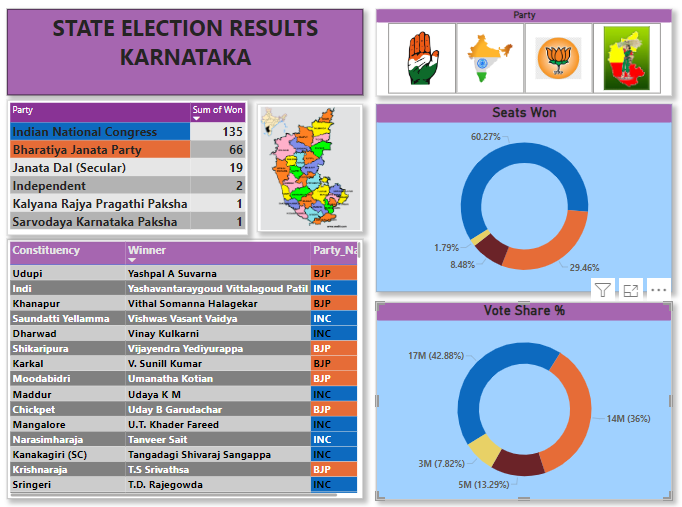

Layout of this report page (visuals, bound fields, positions):
{"tool":"powerbi","page":{"name":"Page 1","canvas":[1500,1200],"ordinal":0},"visuals":[{"type":"donutChart","title":"Seats Won","fields":{"Category":["SeatsWon.Party_Name"],"Y":["Sum(SeatsWon.Won)"]},"box":[824.7,320.7,645.8,410.2],"z":0},{"type":"pieChart","title":"Vote Share %","fields":{"Category":["%vote_share.Party_Name"],"Y":["Sum(%vote_share.Votes Wise(%))"]},"box":[824.7,752.7,645.8,432],"z":1000},{"type":"tableEx","fields":{"Values":["Constituency_Data.Constituency","Constituency_Data.Winner","Constituency_Data.Party_Name"]},"box":[19.6,615.3,776.7,567.3],"z":2000},{"type":"slicer","title":"Party","fields":{"Values":["Flags.Party Flags"]},"box":[824.7,113.5,645.8,189.8],"z":3000},{"type":"textbox","box":[19.6,113.5,776.7,187.6],"z":4000},{"type":"tableEx","fields":{"Values":["SeatsWon.Party","Sum(SeatsWon.Won)"]},"box":[19.6,312,525.8,294.5],"z":5000},{"type":"image","box":[565.1,320.7,231.3,279.3],"z":6000}]}

Visuals, with their boxes on the page's 1500x1200 design canvas (x1, y1, x2, y2). These are canvas units, not pixel positions in the 682x507 screenshot, which may show the page scaled, cropped or inside an application window:
"Seats Won" donutChart: [825, 321, 1470, 731]
"Vote Share %" pieChart: [825, 753, 1470, 1185]
tableEx - Constituency_Data.Constituency x Constituency_Data.Winner: [20, 615, 796, 1183]
"Party" slicer: [825, 114, 1470, 303]
textbox: [20, 114, 796, 301]
tableEx - SeatsWon.Party x Sum(SeatsWon.Won): [20, 312, 545, 606]
image: [565, 321, 796, 600]
